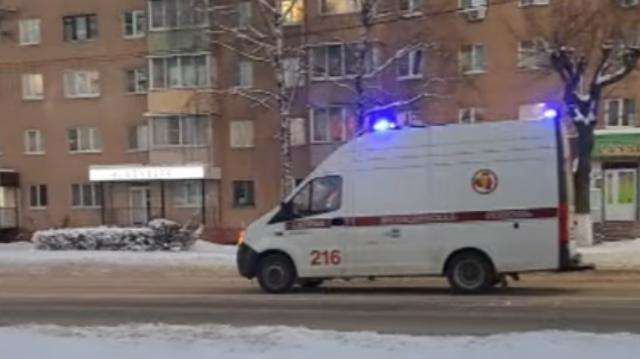ambulance: (238, 112, 576, 294)
